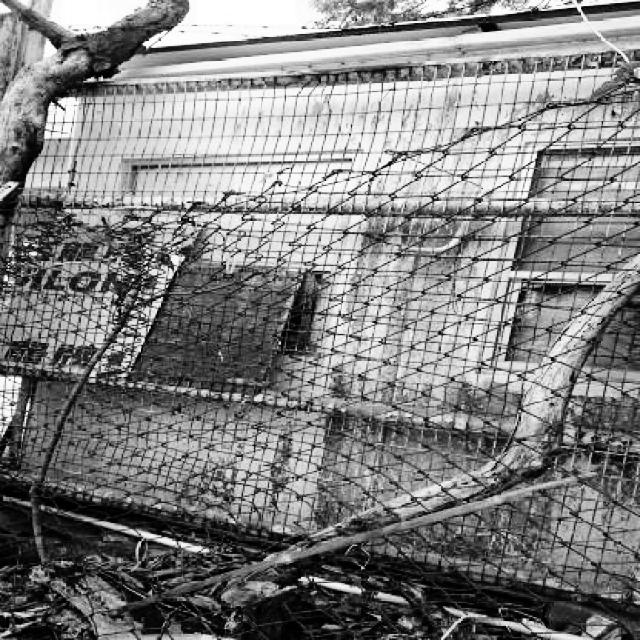anomaly-fence: (1, 31, 640, 220)
